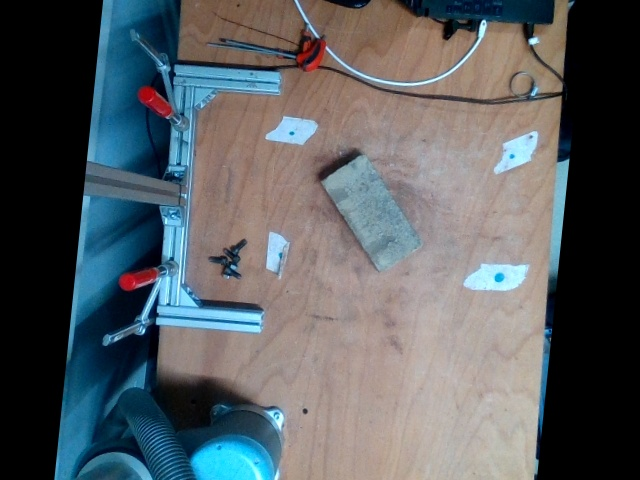brick: (324, 154, 419, 268)
